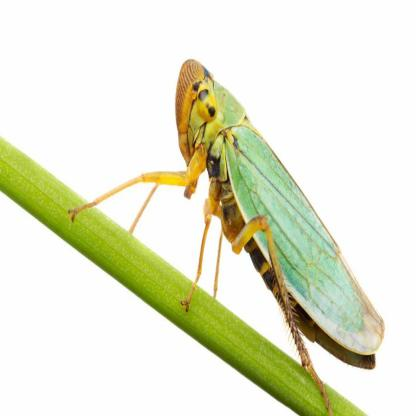Green-Leafhopper: (68, 59, 384, 411)
